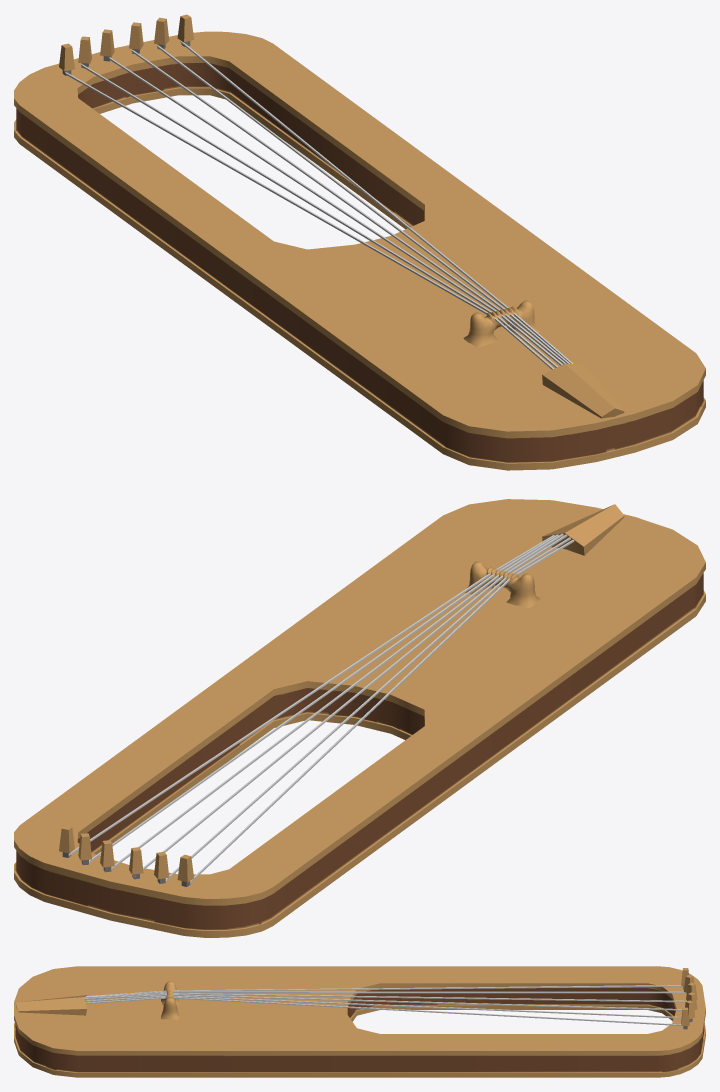
File: lyre.fbx
3 renders of one model, top to bottom at view 1: azimuth 30°, elevation 25°; view 2: azimuth 150°, elevation 25°; view 3: azimuth 270°, elevation 25°, orthographic. The views are drawn at different scales.
Parts seen in each view (by area): view 1: lyre; view 2: lyre; view 3: lyre.
Boxes of the visible parts, left/top/right/bottom form: lyre: left=14, top=14, right=705, bottom=470; lyre: left=14, top=499, right=705, bottom=937; lyre: left=14, top=966, right=705, bottom=1077.
Size of the model in its own units: 0.363 by 1.25 by 0.0924.
1 material, 1 textured.
